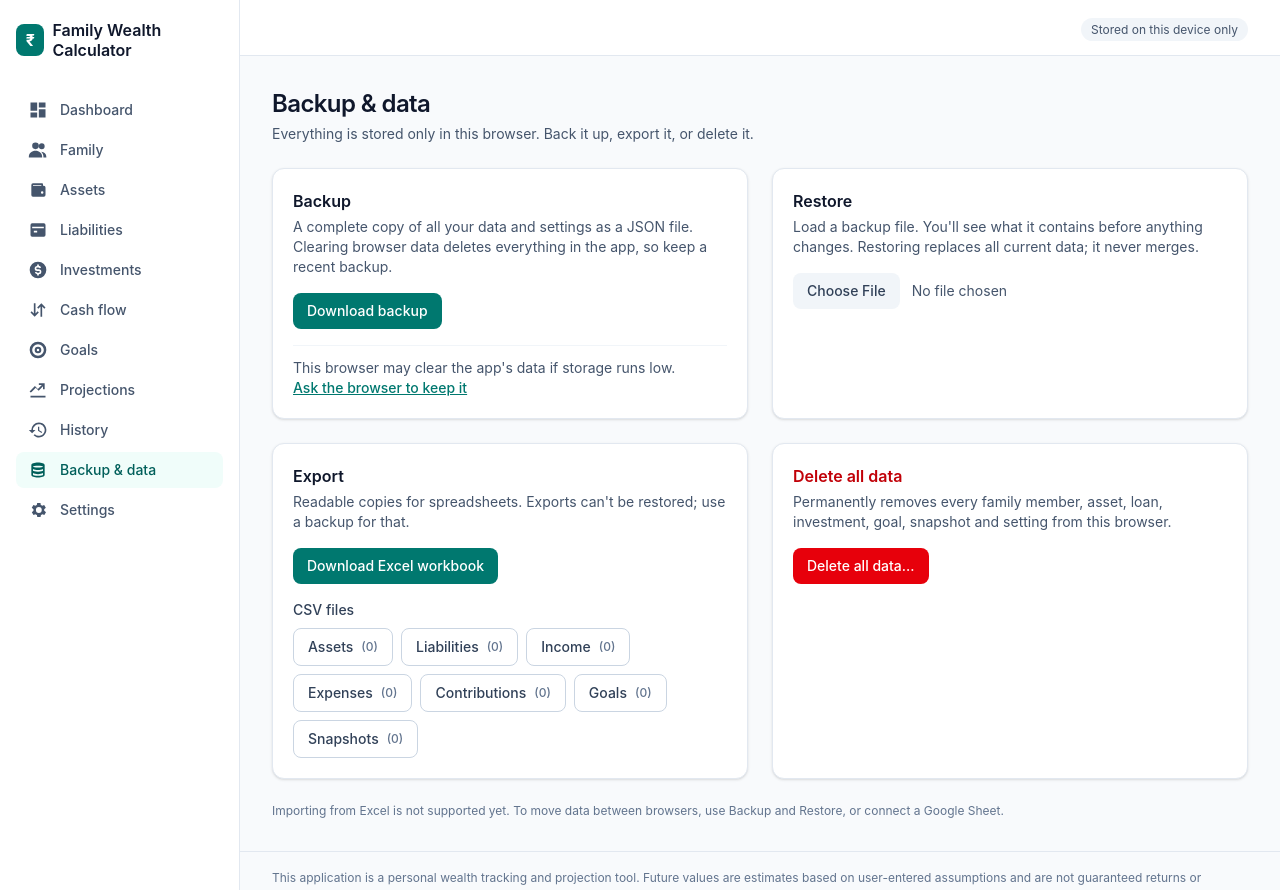
Test: Backup & data page (Phase 13) › shows whether storage is persistent and can ask the browser to keep data
Expected: the element with test id "storage-status" shows "may clear the app", [293,359,675,376]
Click the button "Ask the browser to keep it": [380, 388] box [293,378,467,398]
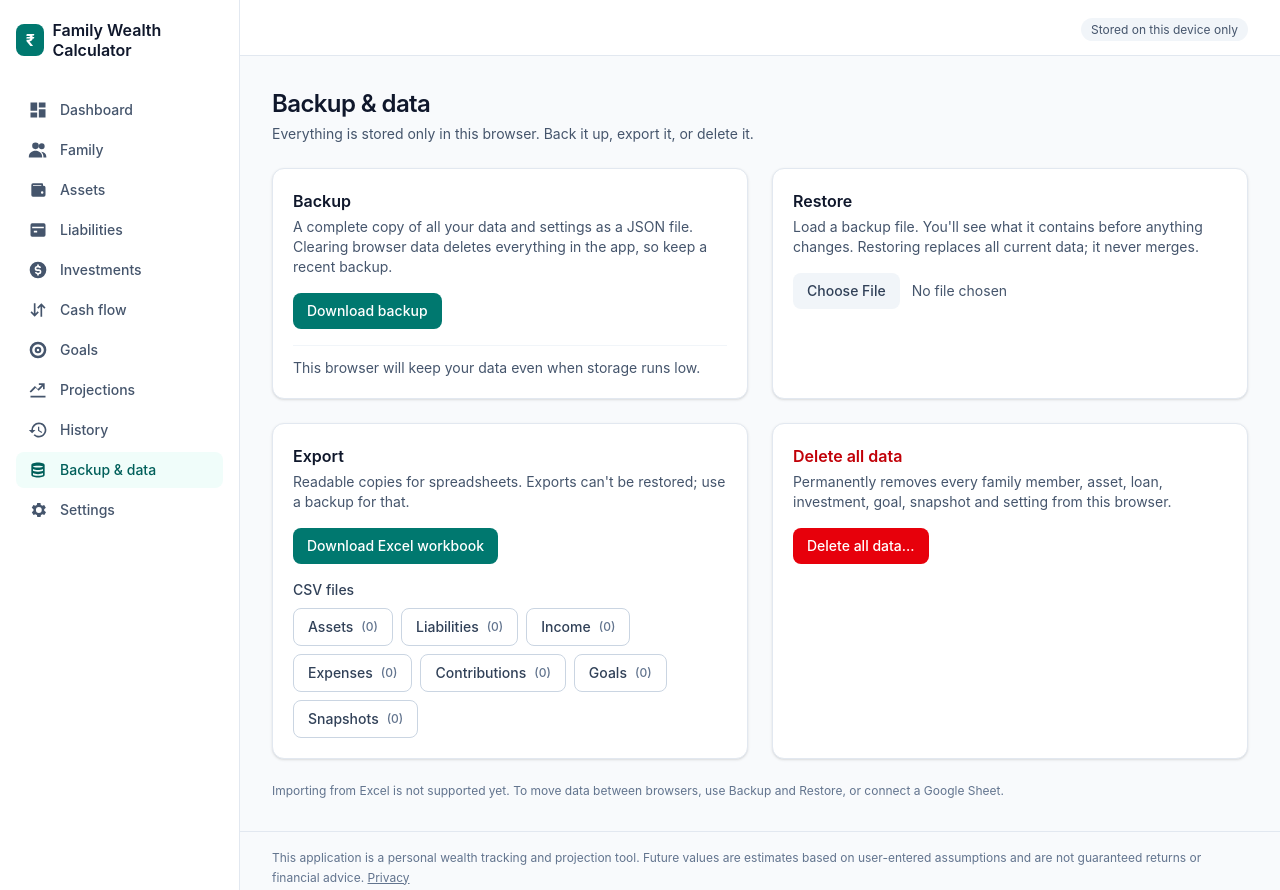
Expected: the text with test id "storage-status" shows "will keep your data", [293,359,700,376]
